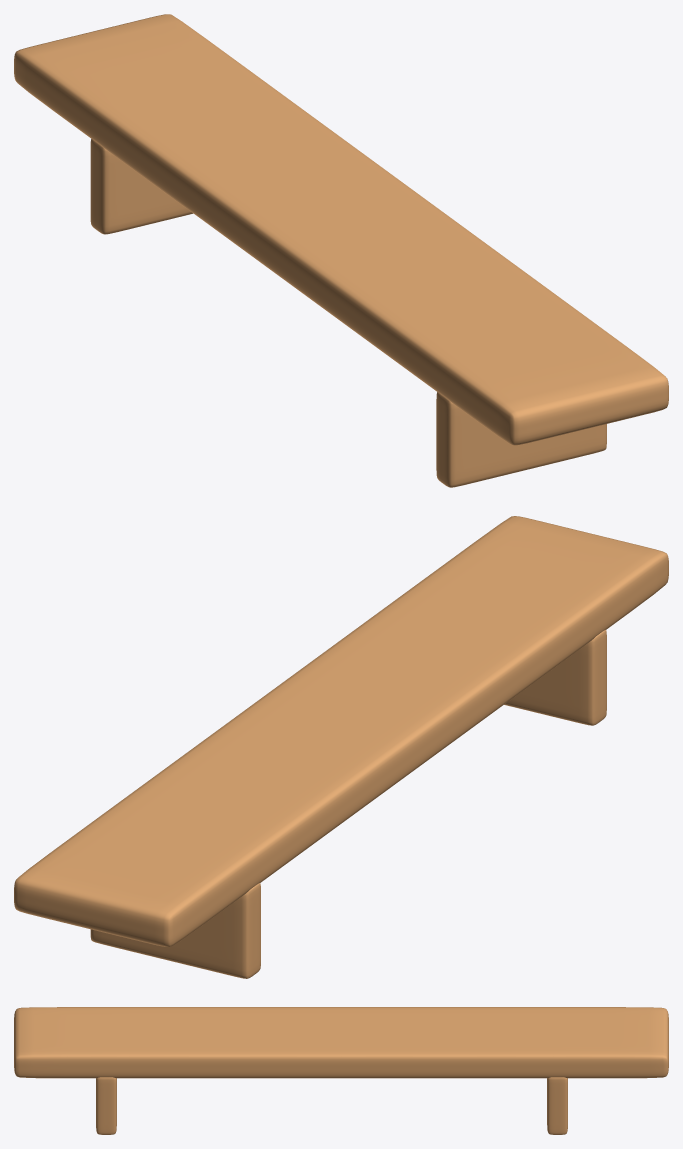
File: monitorstand3.glb
3 views of the same model, one above another, from view 1: azimuth 30°, elevation 25°; view 2: azimuth 150°, elevation 25°; view 3: azimuth 270°, elevation 25° (orthographic). The views are drawn at different scales.
Parts seen in each view (by area): view 1: monitorstand3; view 2: monitorstand3; view 3: monitorstand3.
Boxes of the visible parts, x1,y1,x2,y2 form: monitorstand3: (14, 14, 668, 487); monitorstand3: (14, 516, 668, 978); monitorstand3: (14, 1007, 668, 1134).
Bounding box in the file's own units: 0.1742 × 0.1287 × 0.9538.
